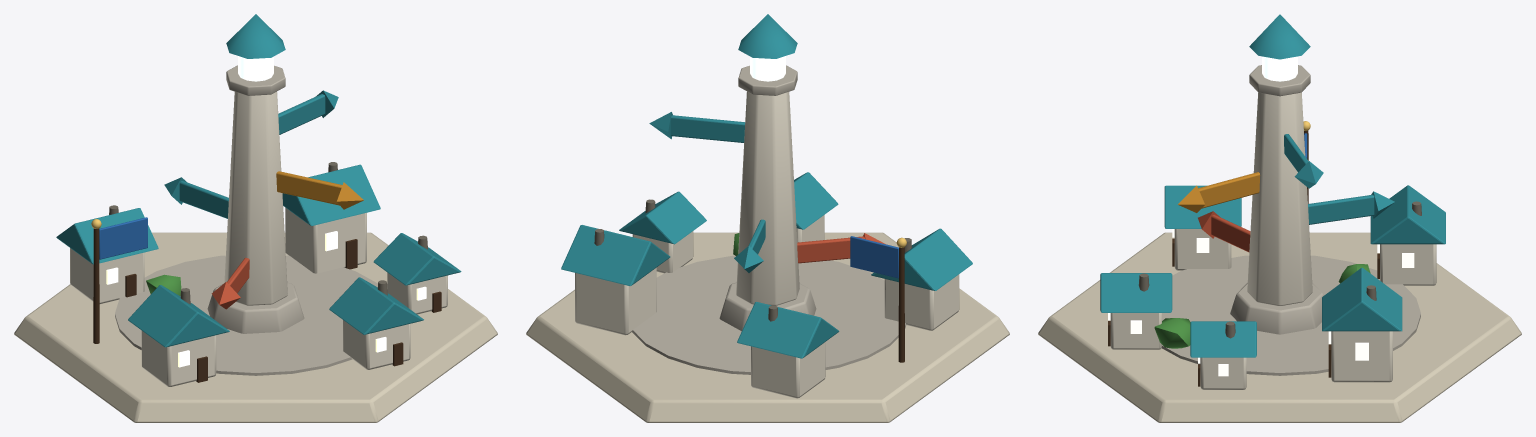
Rendered from district-dns.glb.
The picture shows the model from 3 angles, left to right: view 1: azimuth 30°, elevation 25°; view 2: azimuth 150°, elevation 25°; view 3: azimuth 270°, elevation 25°; orthographic projection.
Visible parts, largest first — view 1: district-dns; view 2: district-dns; view 3: district-dns.
Part boxes in pixels (left/top/right/bottom): district-dns: left=14, top=14, right=497, bottom=422; district-dns: left=526, top=14, right=1009, bottom=422; district-dns: left=1038, top=14, right=1521, bottom=422.
Size of the model in its own units: 1.64 by 1.38 by 1.89.
